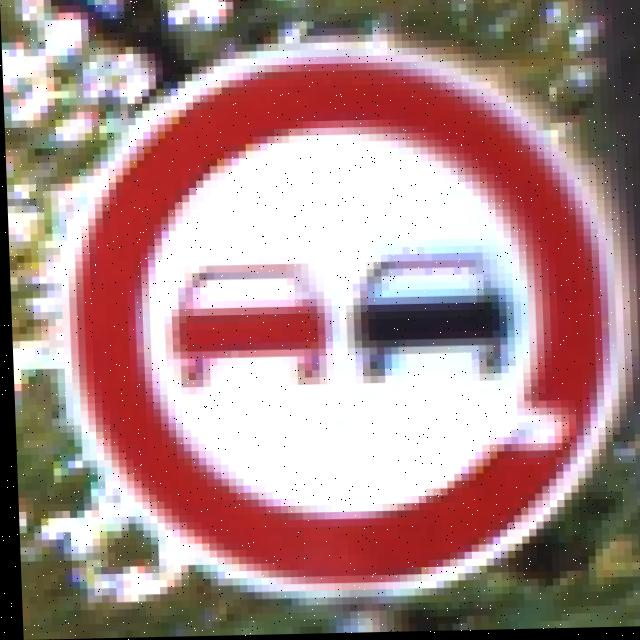no_overtaking: (100, 58, 596, 578)
